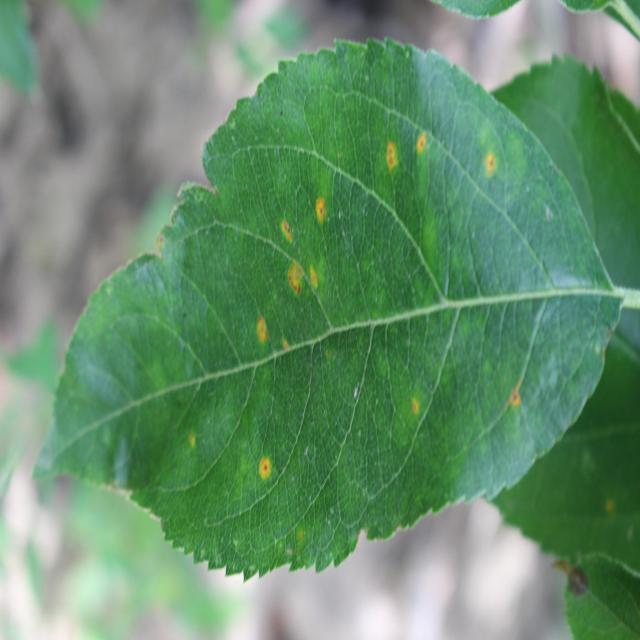Rust: (278, 253, 307, 301), (506, 358, 527, 414), (378, 127, 401, 176), (311, 187, 334, 235), (482, 140, 500, 196), (406, 388, 428, 429), (303, 259, 329, 293), (267, 216, 296, 243), (252, 456, 278, 485), (414, 120, 431, 163), (252, 316, 272, 348), (182, 426, 204, 449)
